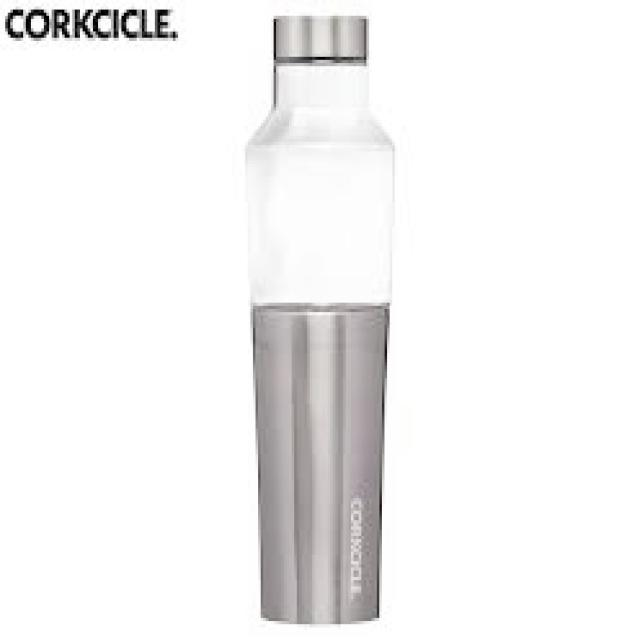bottle: (246, 16, 396, 624)
